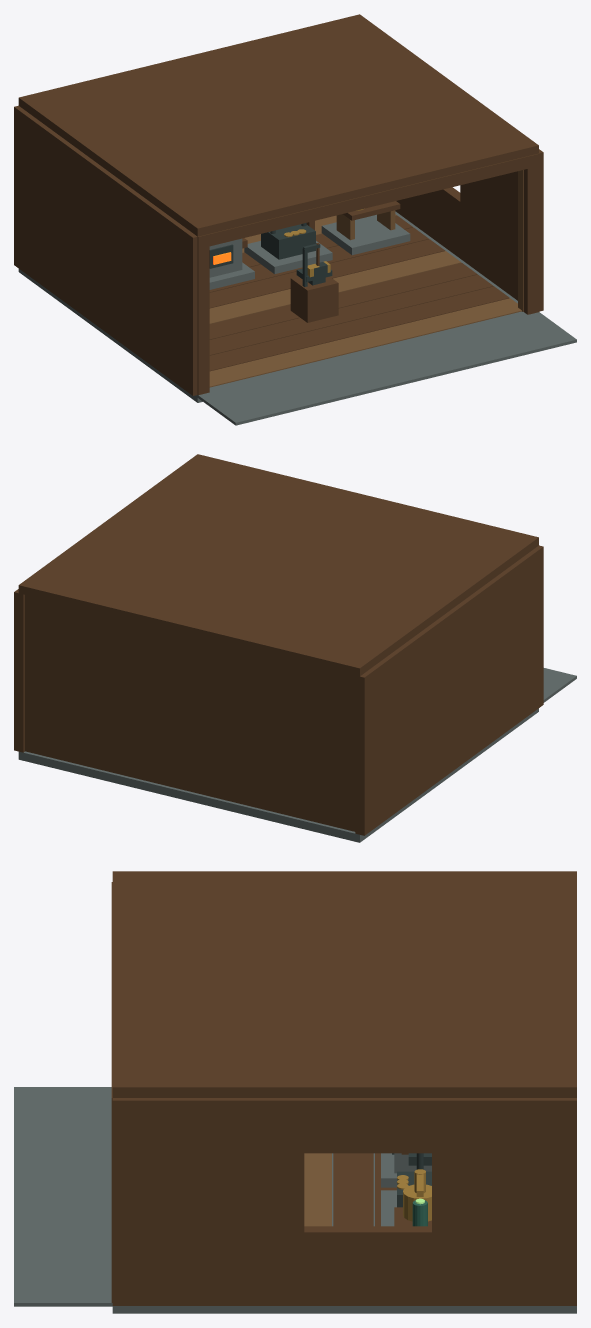
Rendered from workshop-r5.glb.
The picture shows the model from 3 angles, top to bottom: view 1: azimuth 30°, elevation 25°; view 2: azimuth 150°, elevation 25°; view 3: azimuth 270°, elevation 25°; orthographic projection. The views are drawn at different scales.
Parts seen in each view (by area): view 1: shell_ceiling, shell_left_wall, exterior_apron, shell_right_wall, shell_front_wall, deck_board_00, deck_board_01, deck_board_02, deck_board_03, deck_board_04, deck_board_05, shell_floor (+8 smaller); view 2: shell_ceiling, shell_back_wall, shell_left_wall, shell_floor, shell_right_wall, exterior_apron; view 3: shell_ceiling, shell_right_wall, exterior_apron, shell_floor, deck_board_05, deck_board_04, shell_front_wall, alchemy_boiler.
Part boxes in pixels (x1=…): shell_ceiling: x1=18, y1=14, x2=538, y2=236; shell_left_wall: x1=14, y1=105, x2=197, y2=395; exterior_apron: x1=196, y1=312, x2=576, y2=425; shell_right_wall: x1=395, y1=149, x2=543, y2=311; shell_front_wall: x1=197, y1=153, x2=539, y2=395; deck_board_00: x1=209, y1=298, x2=521, y2=387; deck_board_01: x1=209, y1=286, x2=509, y2=371; deck_board_02: x1=209, y1=274, x2=493, y2=355; deck_board_03: x1=209, y1=263, x2=477, y2=339; deck_board_04: x1=209, y1=251, x2=461, y2=323; deck_board_05: x1=209, y1=239, x2=445, y2=308; shell_floor: x1=18, y1=211, x2=524, y2=402; shell_ceiling: x1=18, y1=454, x2=538, y2=676; shell_back_wall: x1=25, y1=595, x2=355, y2=831; shell_left_wall: x1=355, y1=545, x2=543, y2=835; shell_floor: x1=18, y1=708, x2=538, y2=842; shell_right_wall: x1=14, y1=589, x2=24, y2=752; exterior_apron: x1=543, y1=668, x2=576, y2=702; shell_ceiling: x1=112, y1=871, x2=576, y2=1097; shell_right_wall: x1=112, y1=1098, x2=576, y2=1305; exterior_apron: x1=14, y1=1087, x2=118, y2=1306; shell_floor: x1=112, y1=1153, x2=576, y2=1313; deck_board_05: x1=333, y1=1153, x2=373, y2=1226; deck_board_04: x1=304, y1=1153, x2=331, y2=1226; shell_front_wall: x1=111, y1=882, x2=112, y2=1302; alchemy_boiler: x1=403, y1=1184, x2=431, y2=1221.
Bounding box in the file's own units: 9.04 × 4.3 × 9.7.
